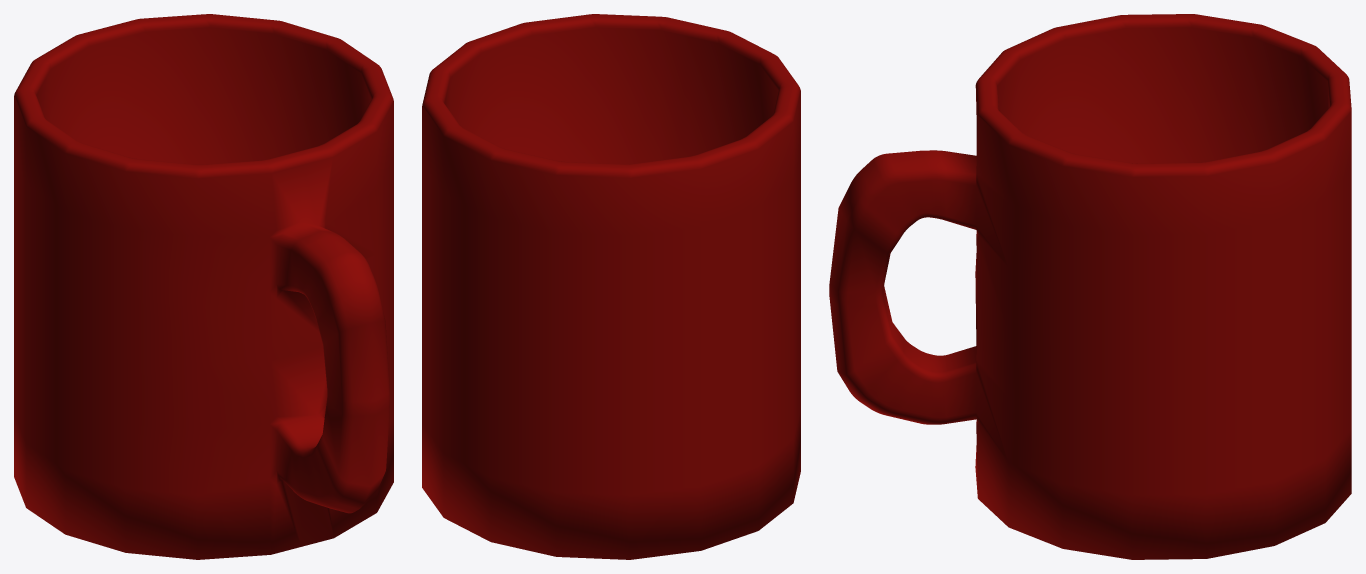
Rendered from caneca.fbx.
The picture shows the model from 3 angles, left to right: view 1: azimuth 30°, elevation 25°; view 2: azimuth 150°, elevation 25°; view 3: azimuth 270°, elevation 25°; orthographic projection.
Parts seen in each view (by area): view 1: Cylinder; view 2: Cylinder; view 3: Cylinder.
Boxes of the visible parts, left/top/right/bottom form: Cylinder: left=14, top=14, right=393, bottom=559; Cylinder: left=422, top=14, right=800, bottom=559; Cylinder: left=829, top=14, right=1351, bottom=559.
Size of the model in its own units: 158 by 180 by 219.
